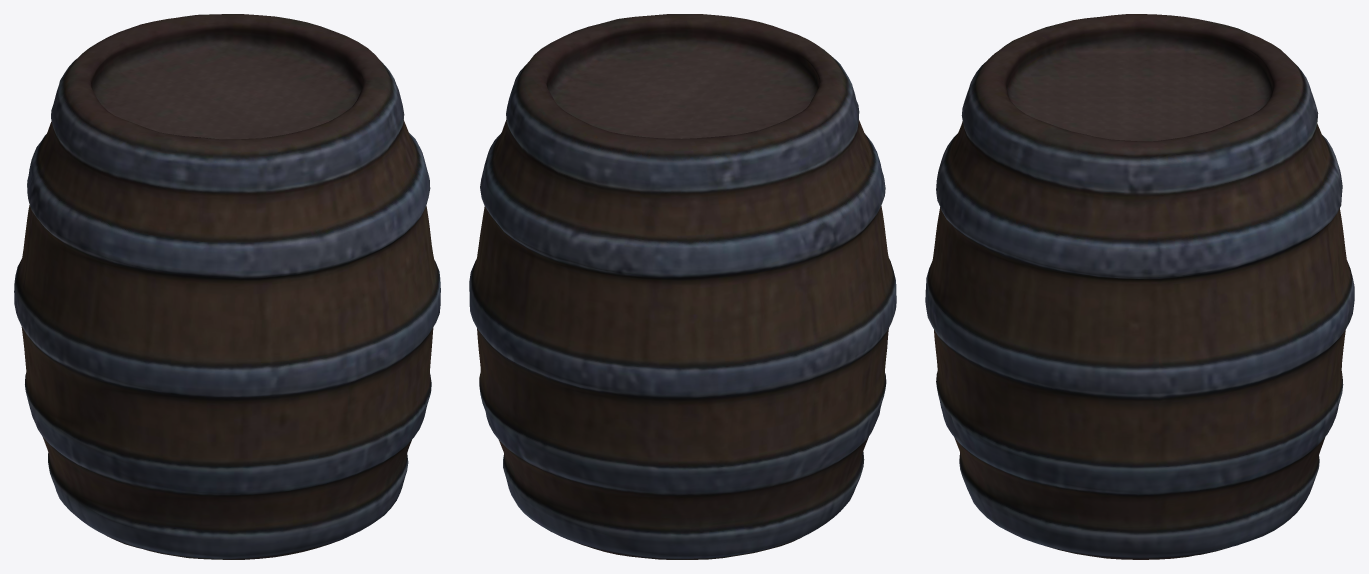
File: barrel.fbx
3 views of the same model, side by side, from view 1: azimuth 30°, elevation 25°; view 2: azimuth 150°, elevation 25°; view 3: azimuth 270°, elevation 25° (orthographic).
Visible parts, largest first — view 1: mesh; view 2: mesh; view 3: mesh.
Part boxes in pixels (x1,y1,x2,y2): mesh: (14,14,440,559); mesh: (469,14,896,559); mesh: (925,14,1354,559).
Bounding box in the file's own units: 92.94 × 99.95 × 93.42.
